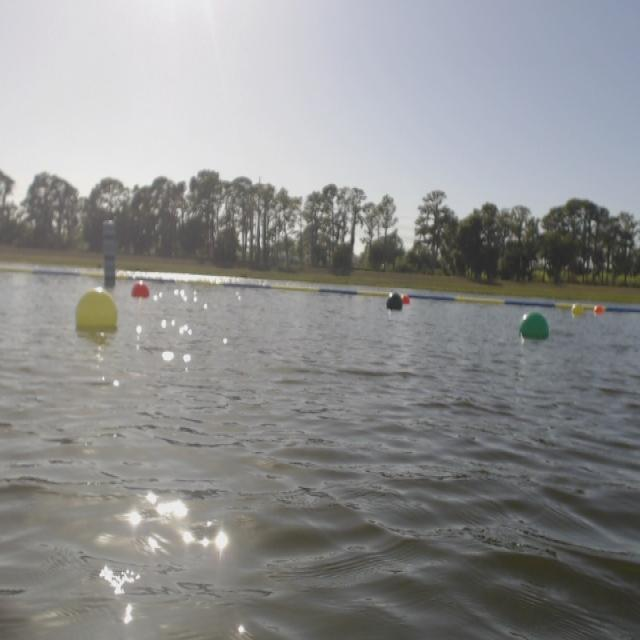Black_Buoy: (383, 297, 404, 312)
Green_Buoy: (512, 315, 548, 347)
Orange__Buoy: (122, 285, 150, 299), (592, 303, 608, 315), (403, 295, 411, 303)
White_Buoy: (99, 218, 117, 286)
